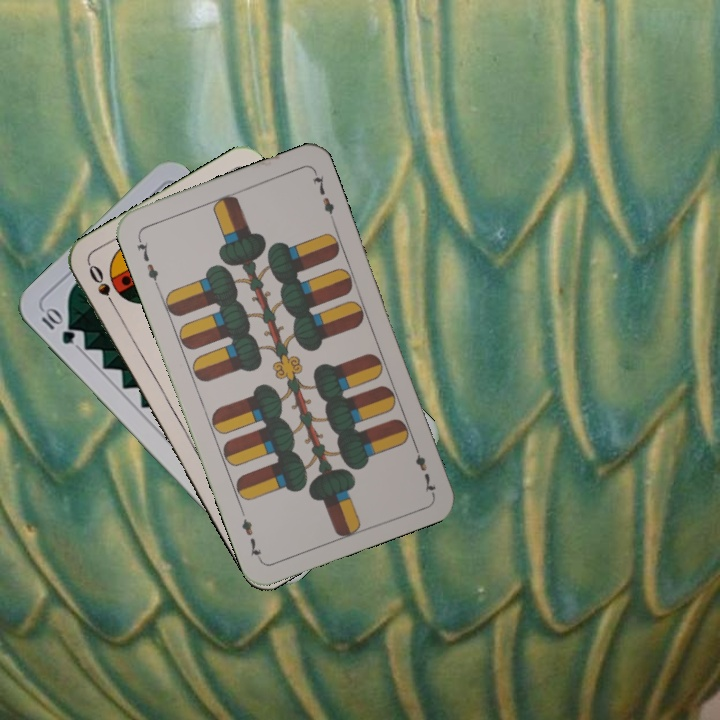E7: (409, 439, 439, 496), (133, 233, 161, 290)
G10: (37, 304, 78, 347)
SO: (84, 260, 121, 315)
